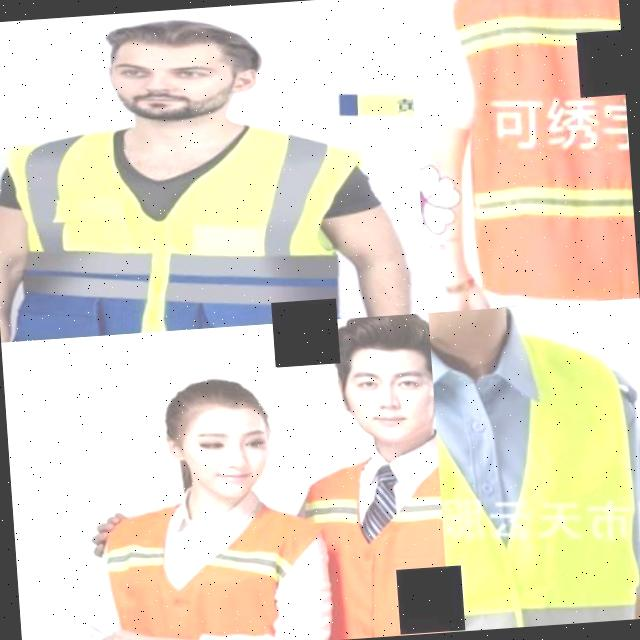vest: (7, 113, 344, 341), (428, 310, 640, 632), (447, 0, 639, 306), (91, 509, 316, 640), (294, 463, 450, 640)
